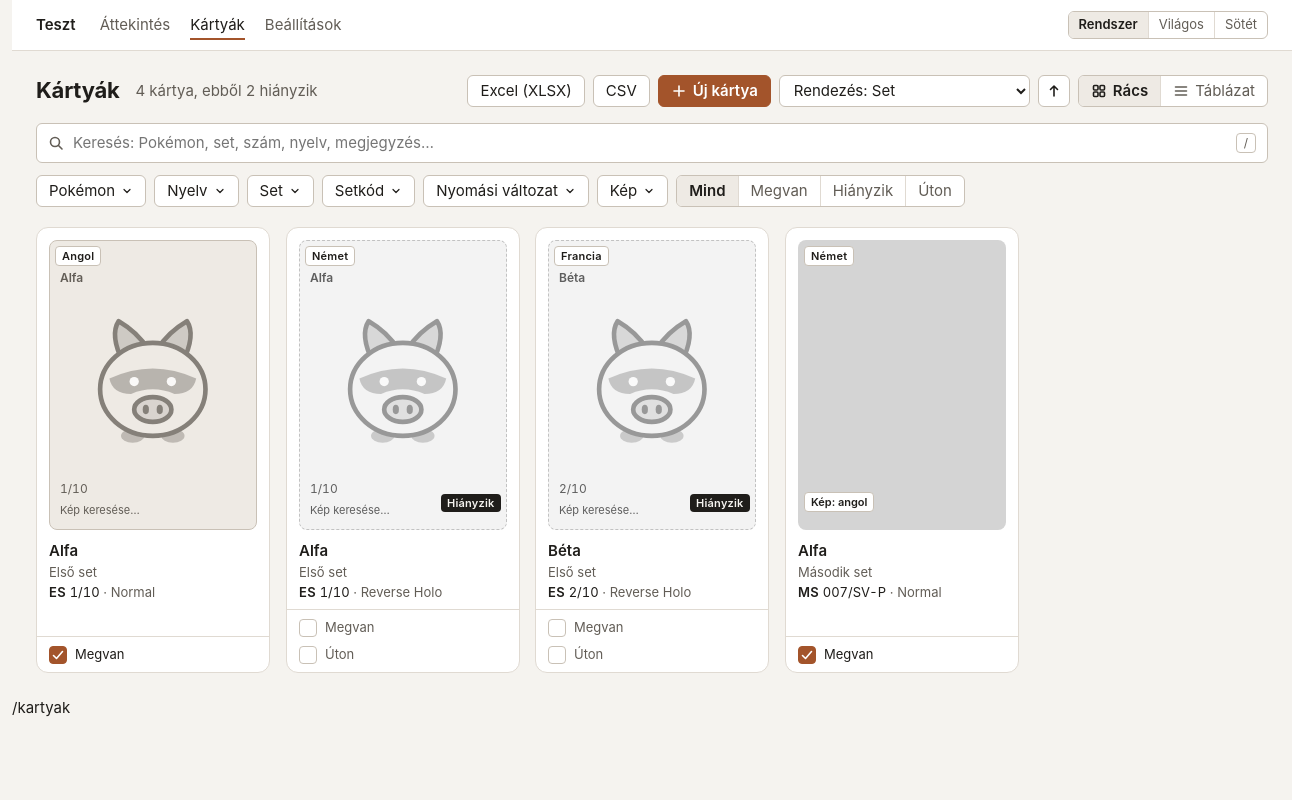
Test case: keresés és szűrés (S-12 … S-16) › S-15: rendezés és irány az URL-ben
Select "Rendezés: Pokémon" in the dropdown named "Rendezés" at x=904, y=91, box 779,75 -> 1030,107
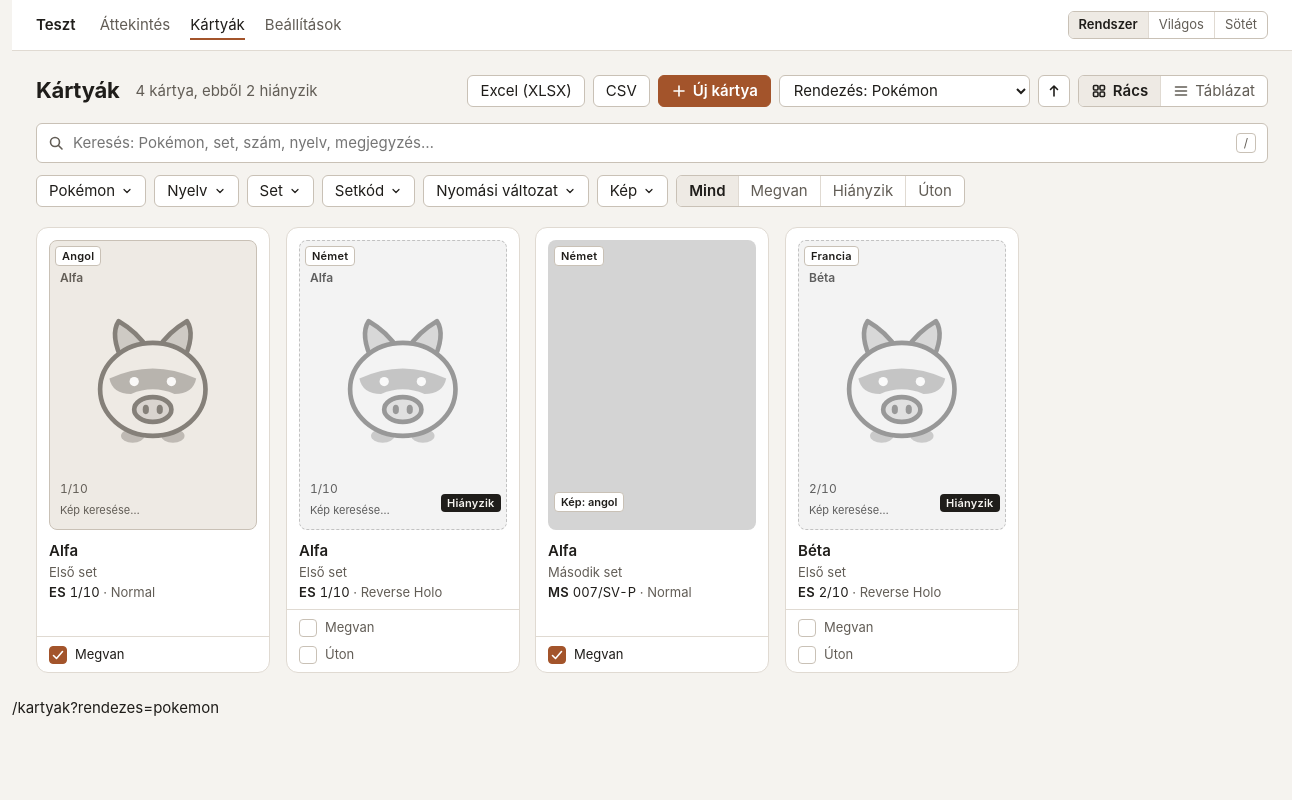
expect the text with test id "location" reads "/kartyak?rendezes=pokemon": met, box 12,698 -> 219,717
Click the button named "Rendezési irány: Növekvő" at x=1054, y=91, box 1038,75 -> 1070,107
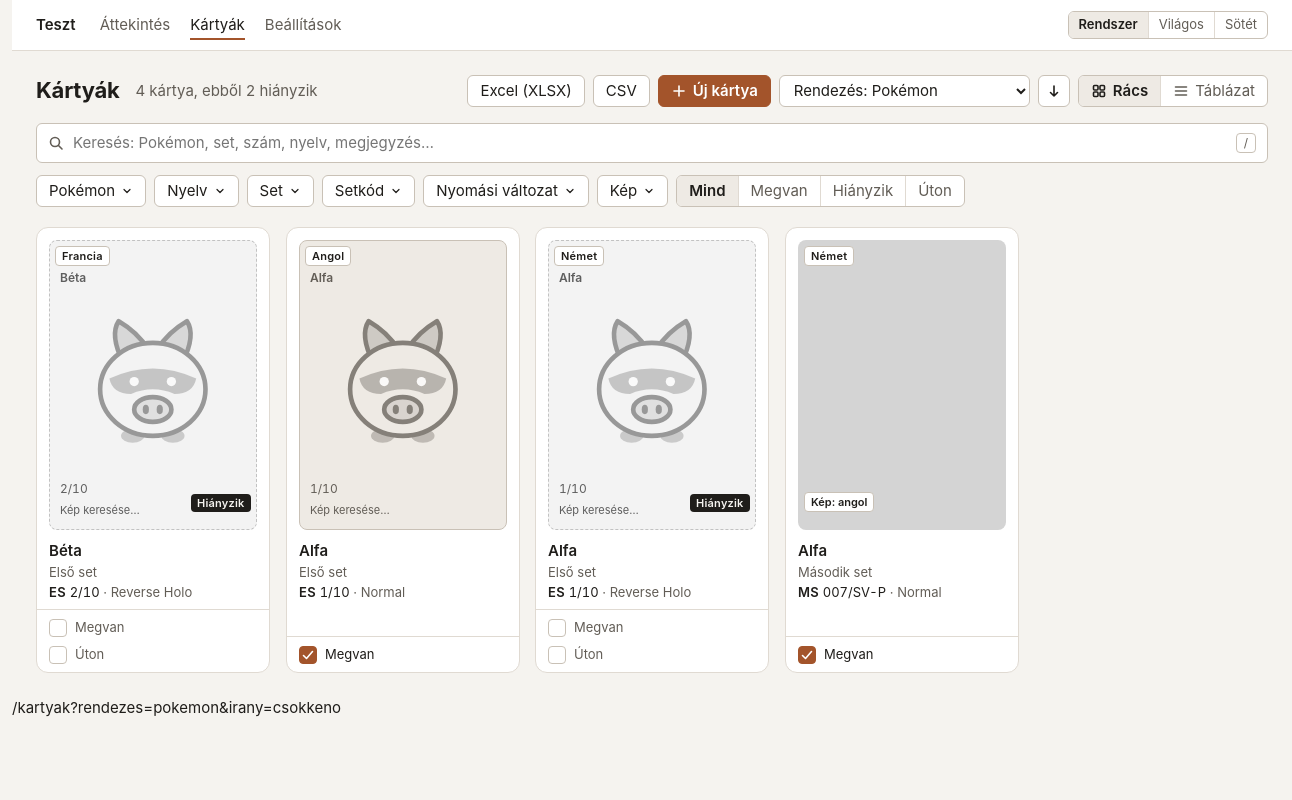
expect the 2nd text with class "tile-name" reads "Béta": met, box 49,541 -> 82,560
expect the text with test id "location" reads "/kartyak?rendezes=pokemon&irany=csokkeno": met, box 12,698 -> 341,717
